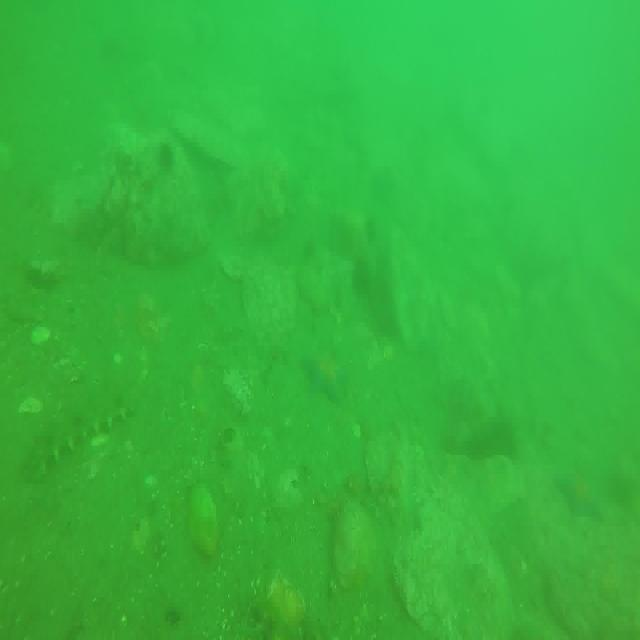echinus: (485, 406, 516, 468)
holothurian: (30, 381, 136, 469)
starfish: (556, 462, 606, 521), (301, 342, 349, 402)
